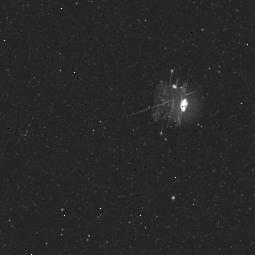smart_1: (126, 41, 201, 169)
